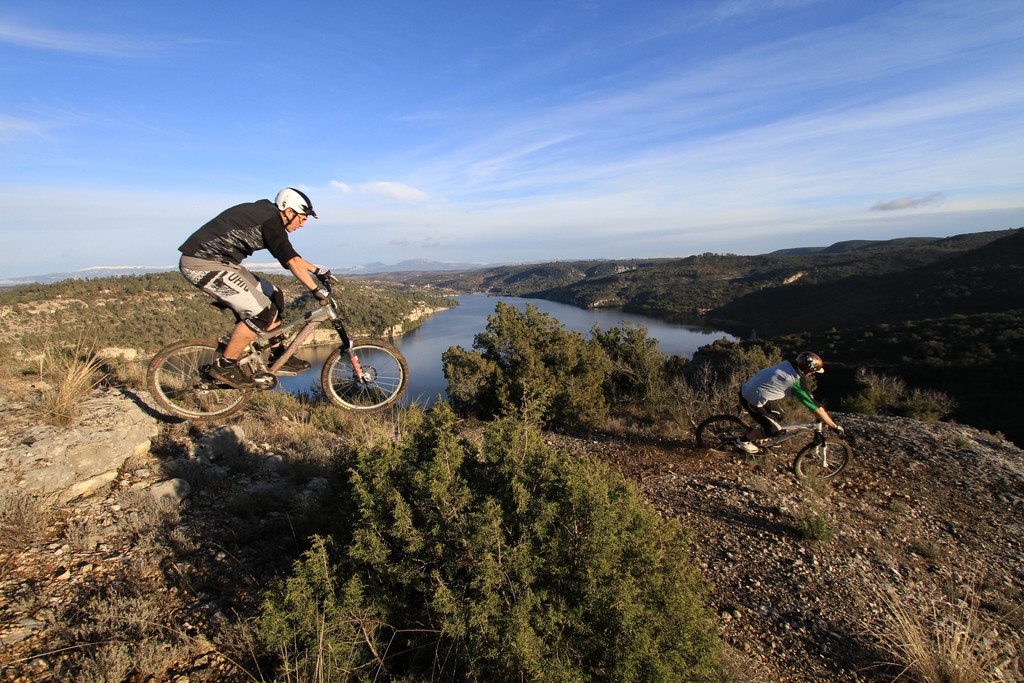Bike: (159, 293, 430, 432)
